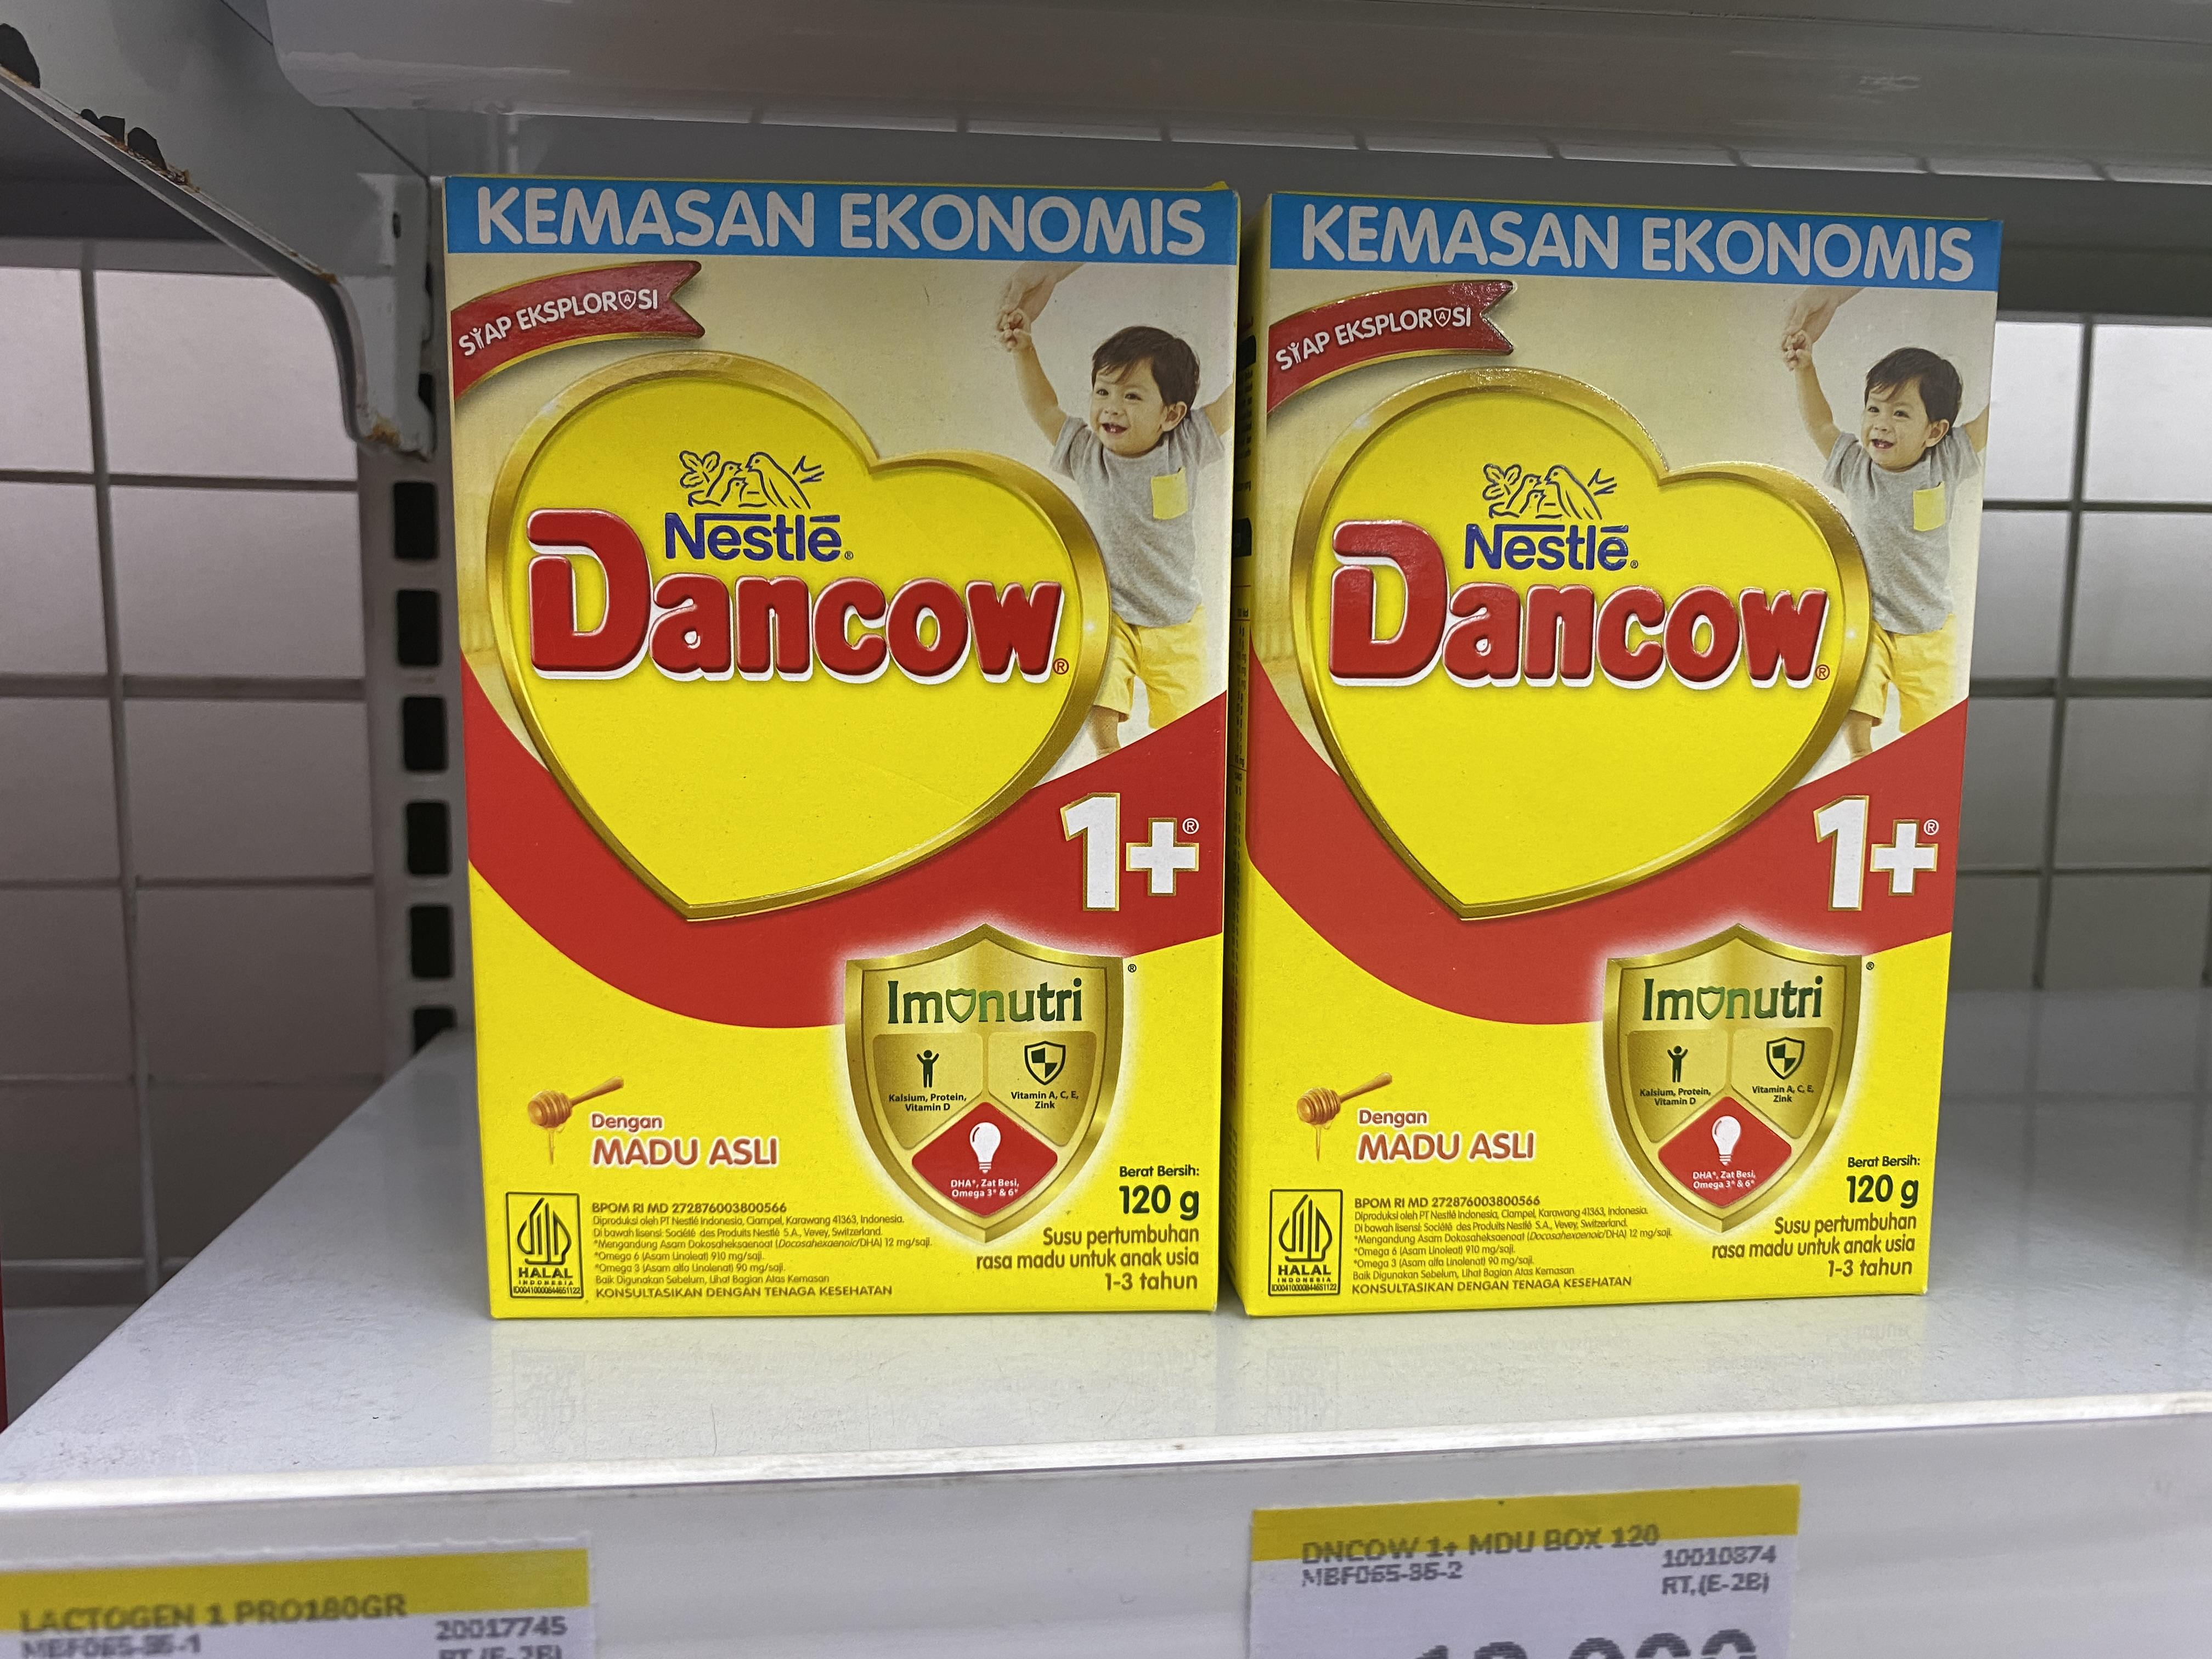DANCOW 1+ Van Advn ExcNutr 24x400g ID_REDESIGN3: (455, 254, 1237, 1316), (1244, 270, 1993, 1314)
